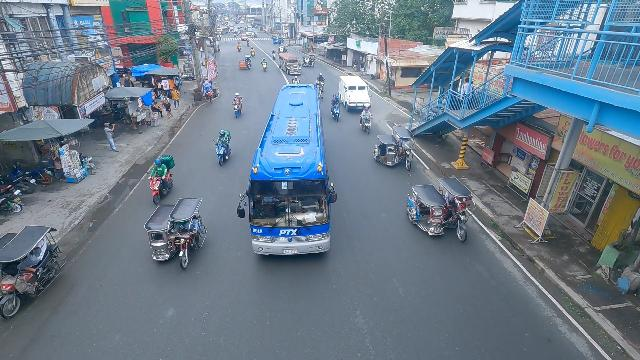bus: (243, 83, 335, 258)
car: (240, 34, 248, 41)
jeepney: (279, 52, 302, 75)
motorcycle: (146, 154, 176, 204), (214, 131, 234, 167), (328, 94, 343, 122), (359, 114, 372, 134), (316, 73, 325, 92), (262, 61, 267, 72), (271, 51, 276, 60), (250, 48, 255, 57), (237, 43, 242, 52), (246, 40, 250, 48)
van: (338, 75, 373, 111)
